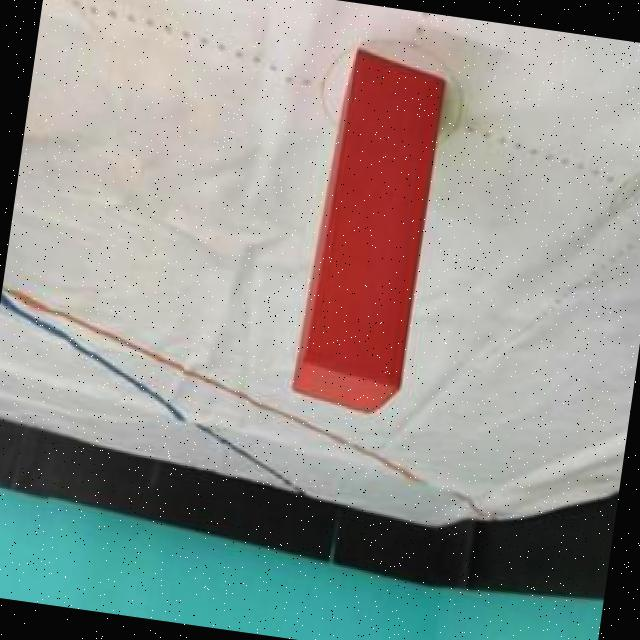redbox: (290, 43, 448, 420)
